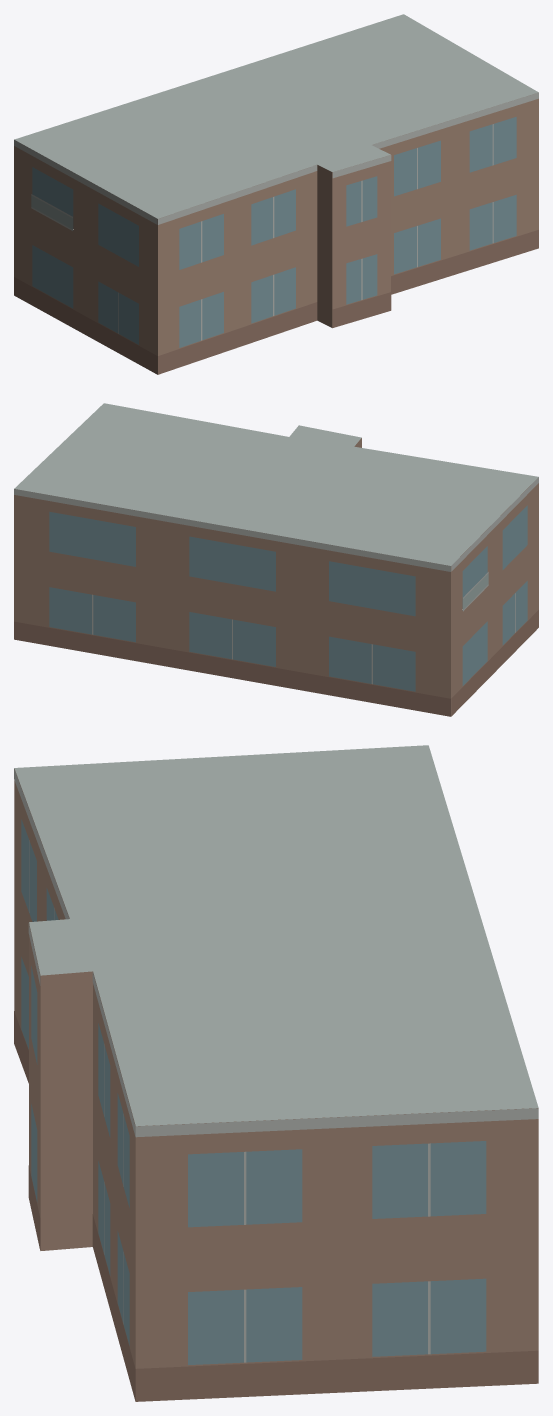
Rendered from survey-upis-32820103.glb.
3 views of the same model, one above another, from view 1: azimuth 30°, elevation 25°; view 2: azimuth 150°, elevation 25°; view 3: azimuth 270°, elevation 25° (orthographic). The views are drawn at different scales.
Parts seen in each view (by area): view 1: survey-upis-32820103.tmp; view 2: survey-upis-32820103.tmp; view 3: survey-upis-32820103.tmp.
Part boxes in pixels (left/top/right/bottom): survey-upis-32820103.tmp: left=14, top=14, right=538, bottom=374; survey-upis-32820103.tmp: left=14, top=403, right=538, bottom=716; survey-upis-32820103.tmp: left=14, top=745, right=538, bottom=1401.
Bounding box in the file's own units: 18.1 × 6.1 × 10.53.
